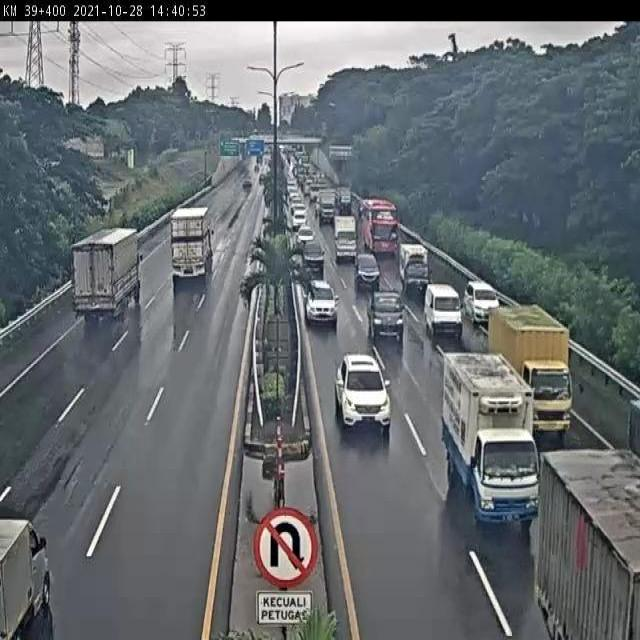big truck: (171, 206, 215, 282)
car: (334, 351, 394, 432), (422, 283, 465, 341), (366, 289, 406, 339), (462, 279, 502, 324), (304, 275, 338, 324), (352, 252, 381, 288)
mid truck: (442, 353, 541, 523), (486, 304, 571, 437)
small truck: (0, 514, 53, 640), (397, 241, 430, 295)
truck-m-: (72, 228, 141, 321)
